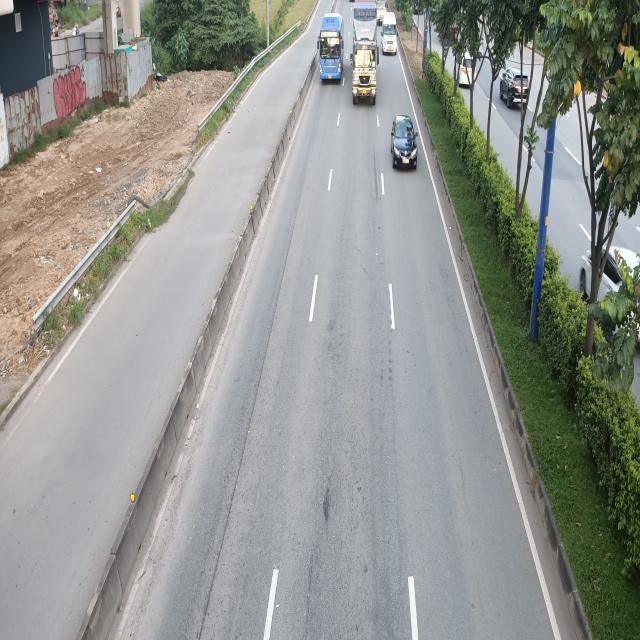car: (392, 115, 419, 170)
coach: (318, 12, 344, 82)
container: (352, 0, 379, 103)
van: (380, 12, 399, 56)
